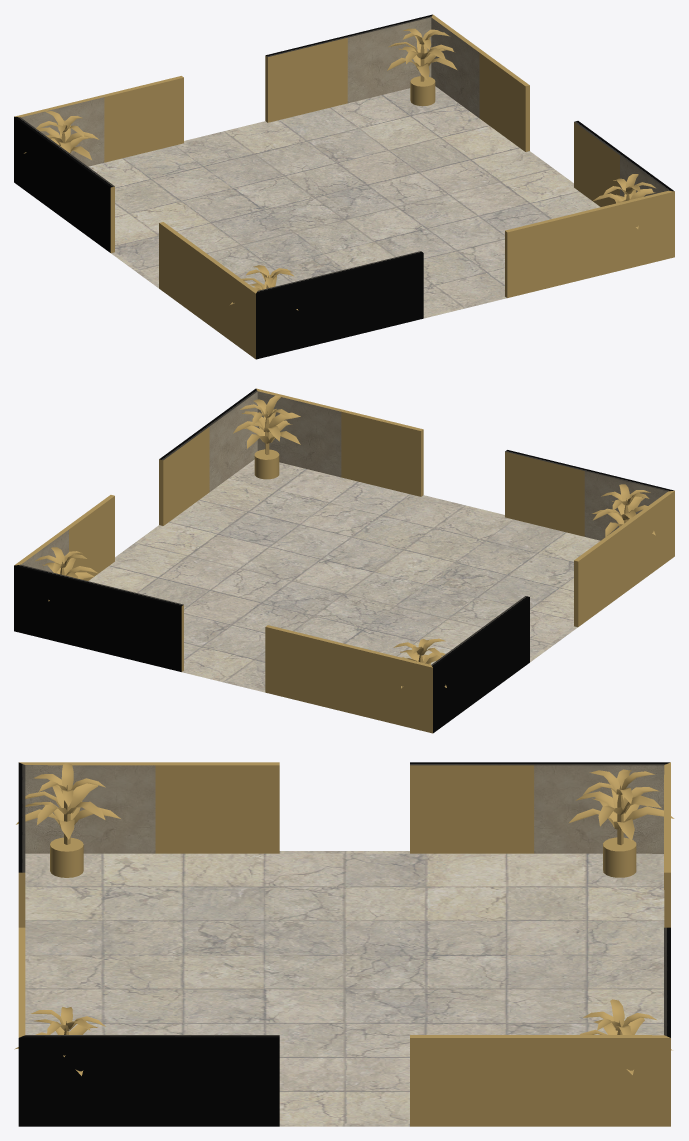
File: Room1x1_4Exits.fbx
The picture shows the model from 3 angles, top to bottom: view 1: azimuth 30°, elevation 25°; view 2: azimuth 150°, elevation 25°; view 3: azimuth 270°, elevation 25°; orthographic projection. The views are drawn at different scales.
Parts seen in each view (by area): view 1: Room1x1_4Exits, Plant03, Plant02, Plant04, Plant01; view 2: Room1x1_4Exits, Plant04, Plant01, Plant03, Plant02; view 3: Room1x1_4Exits, Plant02, Plant01, Plant03, Plant04.
Part boxes in pixels (box(x1,y1,x2,y2)): Room1x1_4Exits: box(14, 14, 674, 359); Plant03: box(387, 28, 456, 106); Plant02: box(24, 111, 99, 159); Plant04: box(592, 174, 655, 228); Plant01: box(230, 265, 298, 310); Room1x1_4Exits: box(14, 388, 674, 733); Plant04: box(233, 395, 300, 479); Plant01: box(592, 484, 655, 536); Plant03: box(35, 547, 97, 601); Plant02: box(393, 638, 446, 688); Room1x1_4Exits: box(18, 762, 670, 1126); Plant02: box(569, 769, 674, 877); Plant01: box(16, 763, 120, 877); Plant03: box(580, 999, 672, 1074); Plant04: box(14, 1007, 105, 1075).
Bounding box in the file's own units: 10.19 × 1.62 × 10.13.
1 material, 1 textured.
